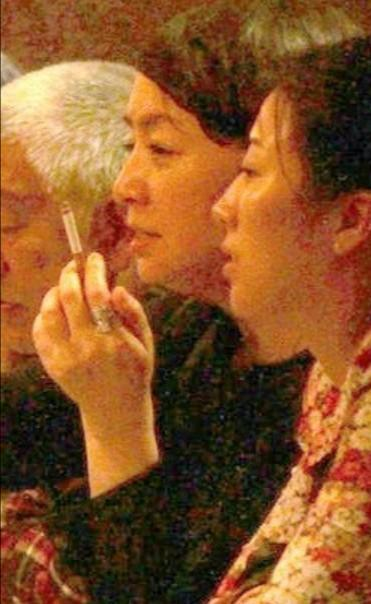Cigarette: (59, 199, 90, 294)
